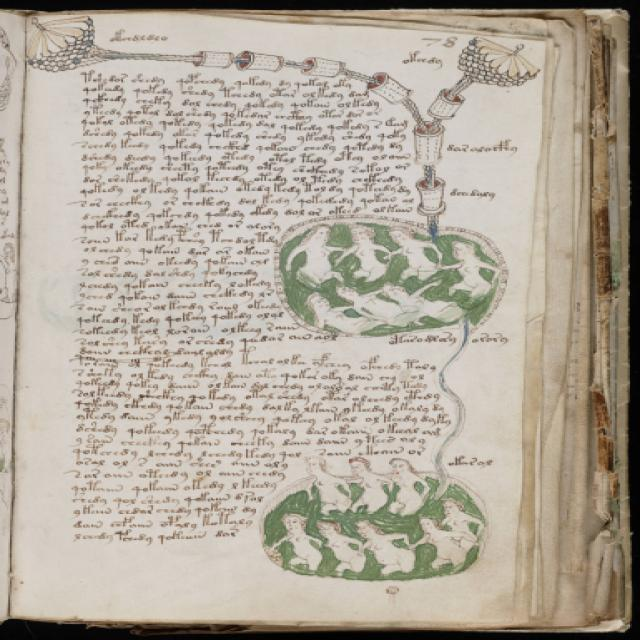people: (252, 451, 493, 581), (279, 218, 506, 335)
person: (281, 222, 352, 288), (379, 281, 467, 325), (303, 290, 387, 336), (382, 226, 444, 283), (335, 221, 392, 282), (448, 241, 503, 301), (338, 288, 419, 327)
